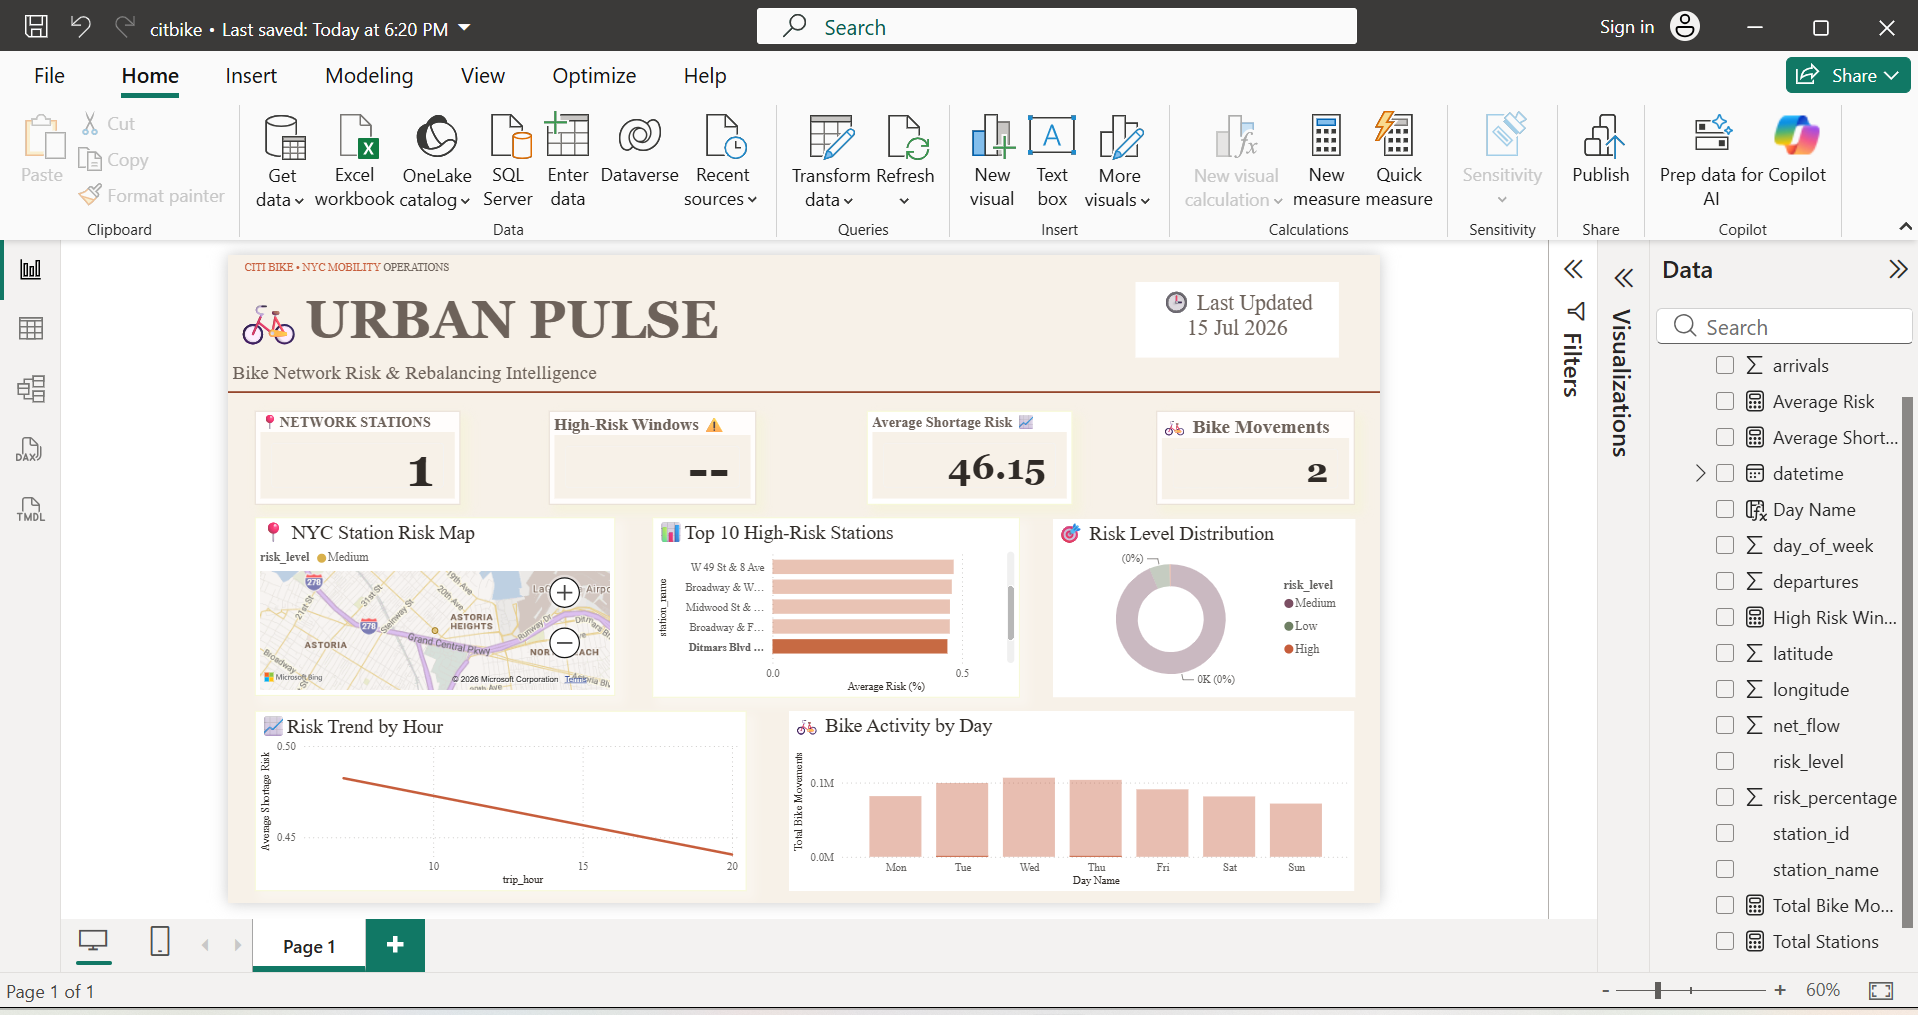

What the dashboard file says about the page in this screenshot:
{"tool":"powerbi","page":{"name":"Page 1","canvas":[1280,720],"ordinal":0},"visuals":[{"type":"textbox","box":[0,24,610,90],"z":0},{"type":"textbox","box":[0,113.4,429,37.8],"z":1000},{"type":"textbox","box":[13.2,0,287.2,30.2],"z":2000},{"type":"cardVisual","title":"📍NETWORK STATIONS","fields":{"Data":["citibikedash.Total Stations"]},"box":[30,174,228,104],"z":3000},{"type":"cardVisual","title":"High-Risk Windows ⚠️","fields":{"Data":["citibikedash.High Risk Windows"]},"box":[356,174,230,104],"z":4000},{"type":"cardVisual","title":"Average Shortage Risk 📈","fields":{"Data":["citibikedash.Average Risk"]},"box":[710,174,228,104],"z":5000},{"type":"cardVisual","title":"🚲 Bike Movements","fields":{"Data":["citibikedash.Total Bike Movements"]},"box":[1032,174,220,104],"z":6000},{"type":"map","title":"📍 NYC Station Risk Map","fields":{"Category":["citibikedash.station_name"],"X":["Avg(citibikedash.longitude)"],"Y":["Avg(citibikedash.latitude)"],"Series":["citibikedash.risk_level"],"Size":["citibikedash.Total Bike Movements"]},"box":[30,292,400,198],"z":7000},{"type":"clusteredBarChart","title":"📊Top 10 High-Risk Stations","fields":{"Category":["citibikedash.station_name"],"Y":["citibikedash.Average Shortage Risk"]},"box":[472,292,408,200],"z":7001},{"type":"lineChart","title":"📈Risk Trend by Hour","fields":{"Category":["citibikedash.trip_hour"],"Y":["citibikedash.Average Shortage Risk"]},"box":[30,506,546,200],"z":7002},{"type":"donutChart","title":"🎯 Risk Level Distribution","fields":{"Category":["citibikedash.risk_level"],"Y":["CountNonNull(citibikedash.station_name)"]},"box":[916,294,336,198],"z":7003},{"type":"clusteredColumnChart","title":"🚲 Bike Activity by Day","fields":{"Y":["citibikedash.Total Bike Movements"],"Category":["citibikedash.Day Name"]},"box":[624,506,628,200],"z":7004},{"type":"shape","box":[0,78,1280,148],"z":7005},{"type":"textbox","box":[1008,30,226,84],"z":7006}]}

Visuals, with their boxes on the page's 1280x720 design canvas (x1, y1, x2, y2). These are canvas units, not pixel positions in the 1918x1015 screenshot, which may show the page scaled, cropped or inside an application window:
textbox: (0, 24, 610, 114)
textbox: (0, 113, 429, 151)
textbox: (13, 0, 300, 30)
"📍NETWORK STATIONS" cardVisual: (30, 174, 258, 278)
"High-Risk Windows ⚠️" cardVisual: (356, 174, 586, 278)
"Average Shortage Risk 📈" cardVisual: (710, 174, 938, 278)
"🚲 Bike Movements" cardVisual: (1032, 174, 1252, 278)
"📍 NYC Station Risk Map" map: (30, 292, 430, 490)
"📊Top 10 High-Risk Stations" clusteredBarChart: (472, 292, 880, 492)
"📈Risk Trend by Hour" lineChart: (30, 506, 576, 706)
"🎯 Risk Level Distribution" donutChart: (916, 294, 1252, 492)
"🚲 Bike Activity by Day" clusteredColumnChart: (624, 506, 1252, 706)
shape: (0, 78, 1280, 226)
textbox: (1008, 30, 1234, 114)
